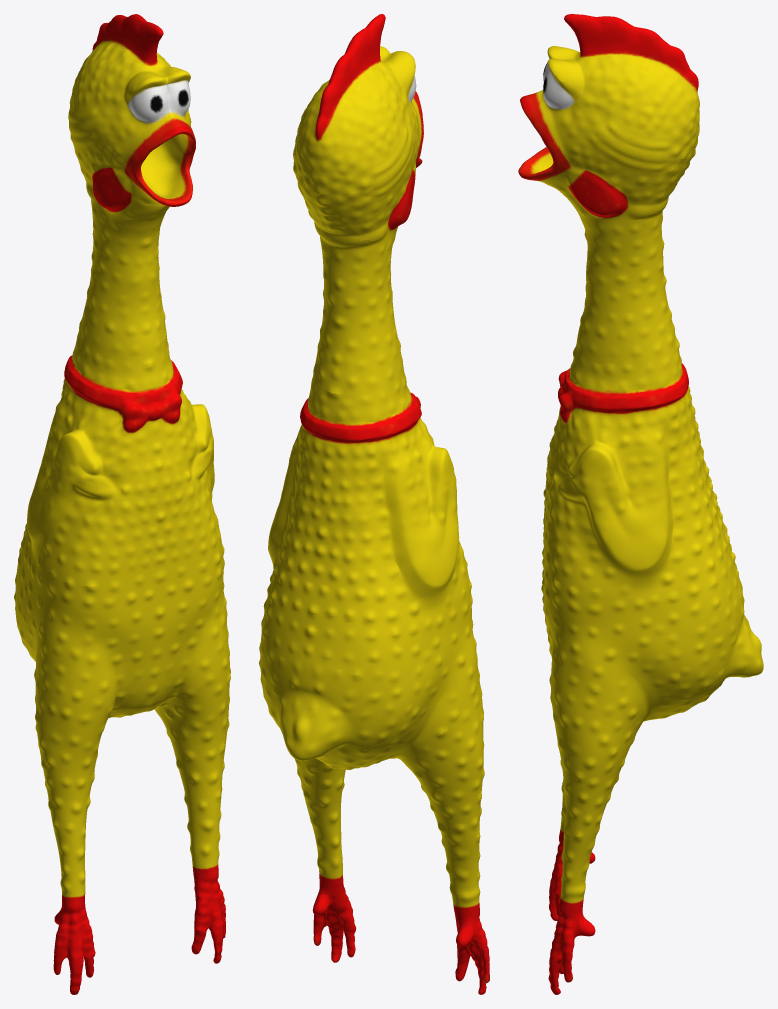
File: funny_rubber_chicken.glb
The picture shows the model from 3 angles, left to right: view 1: azimuth 30°, elevation 25°; view 2: azimuth 150°, elevation 25°; view 3: azimuth 270°, elevation 25°; orthographic projection. The views are drawn at different scales.
Visible parts, largest first — view 1: chicken; view 2: chicken; view 3: chicken.
Boxes of the visible parts, x1,y1,x2,y2 form: chicken: [14, 14, 230, 994]; chicken: [259, 14, 489, 994]; chicken: [518, 14, 763, 994].
Size of the model in its own units: 139 by 668 by 155.
Materials: 1 (1 with a texture image).
